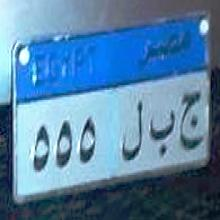5: (51, 119, 76, 168), (78, 115, 98, 162), (31, 125, 50, 170)
baa: (149, 108, 173, 156)
jeem: (175, 82, 206, 157)
laam: (122, 99, 145, 168)
